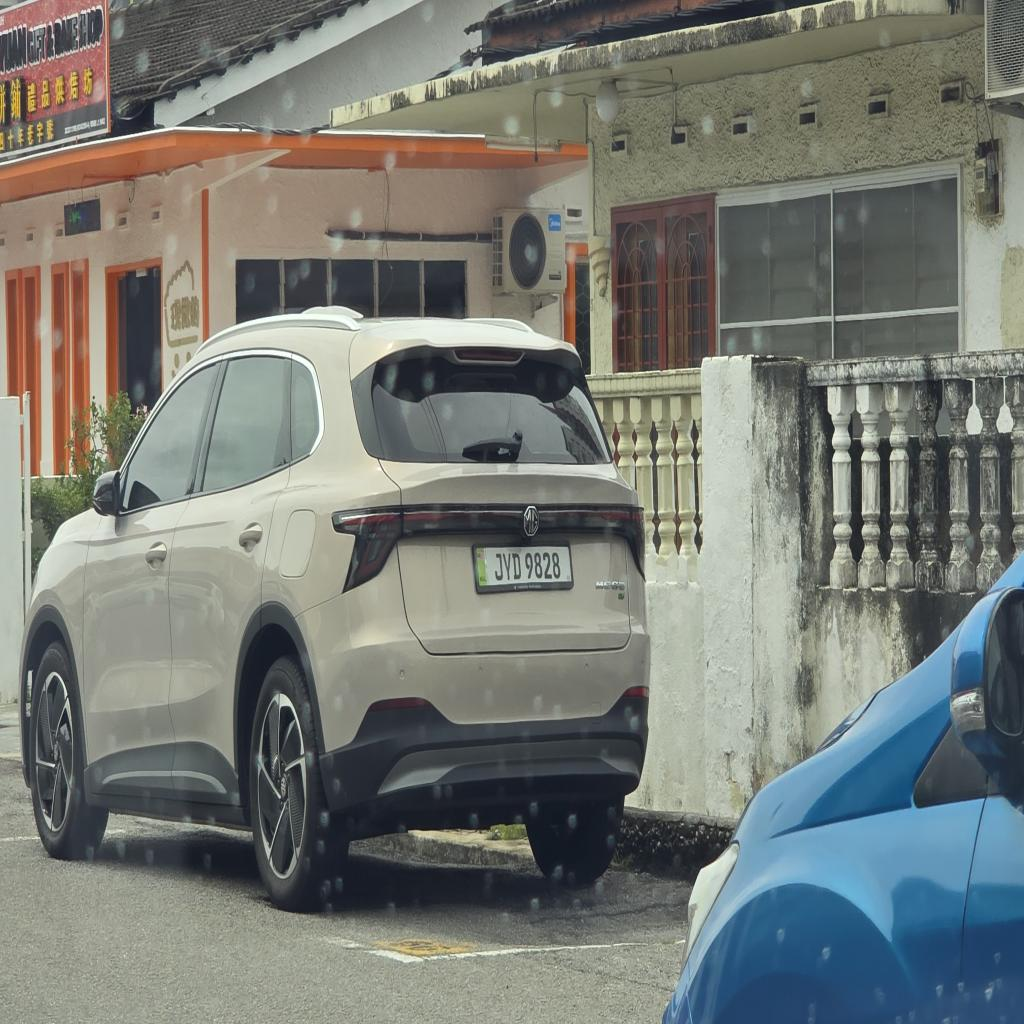car: (21, 308, 649, 908)
car plate: (475, 545, 572, 592)
